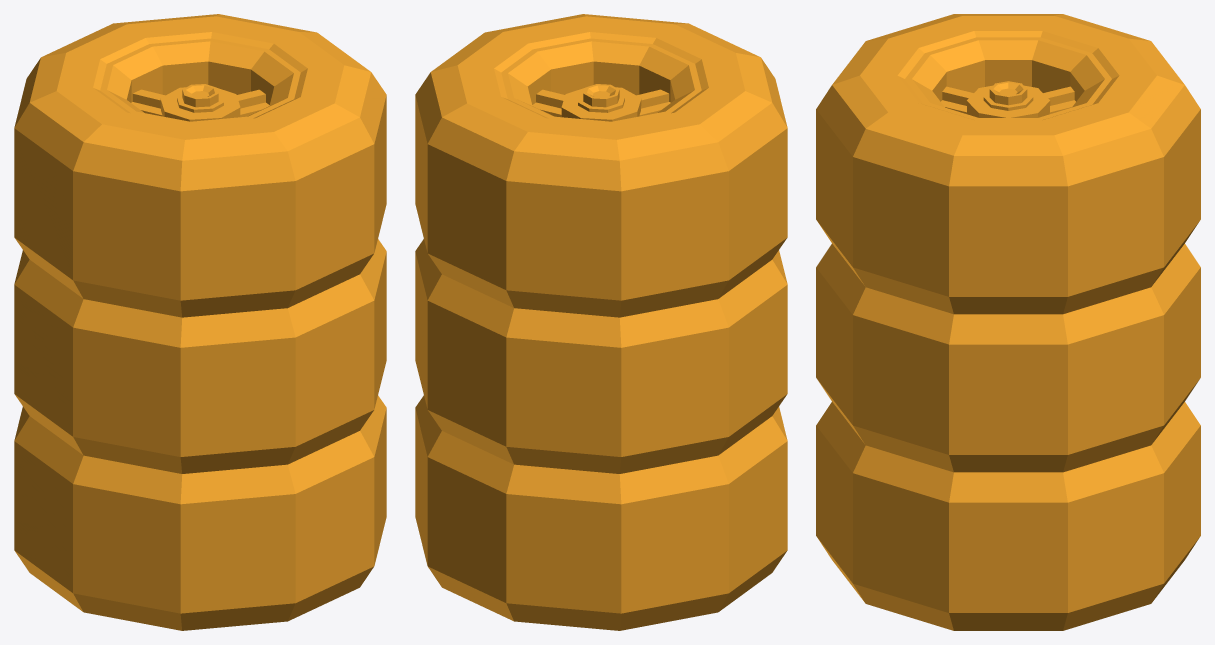
The model's file is SM_Wheel_Stack_Gokart.fbx.
The picture shows the model from 3 angles, left to right: view 1: azimuth 30°, elevation 25°; view 2: azimuth 150°, elevation 25°; view 3: azimuth 270°, elevation 25°; orthographic projection.
Visible parts, largest first — view 1: SM_Wheel_Stack_Gokart; view 2: SM_Wheel_Stack_Gokart; view 3: SM_Wheel_Stack_Gokart.
Boxes of the visible parts, bbox=[...] form: SM_Wheel_Stack_Gokart: bbox=[14, 14, 386, 630]; SM_Wheel_Stack_Gokart: bbox=[415, 14, 787, 630]; SM_Wheel_Stack_Gokart: bbox=[816, 14, 1200, 630].
Bounding box in the file's own units: 0.3399 × 0.5062 × 0.3574.
